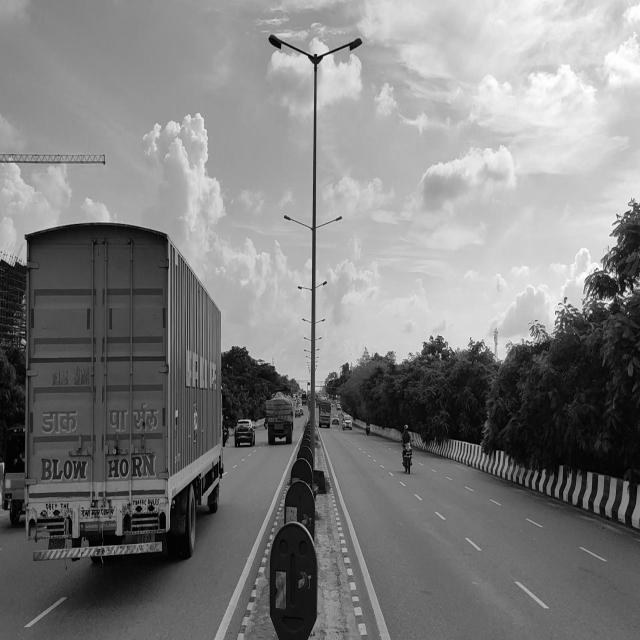bike: (386, 413, 433, 482)
truck: (9, 179, 236, 576), (262, 378, 317, 450)
